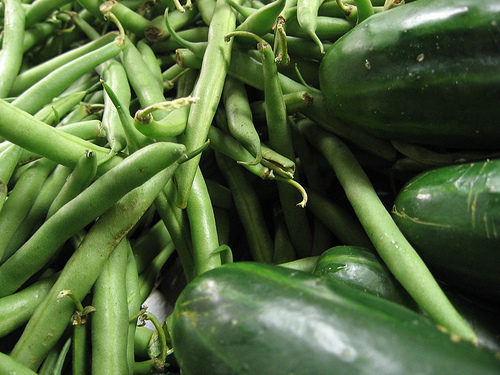cucumber: (171, 261, 499, 374), (322, 0, 499, 153), (394, 162, 499, 253), (315, 246, 408, 306)
